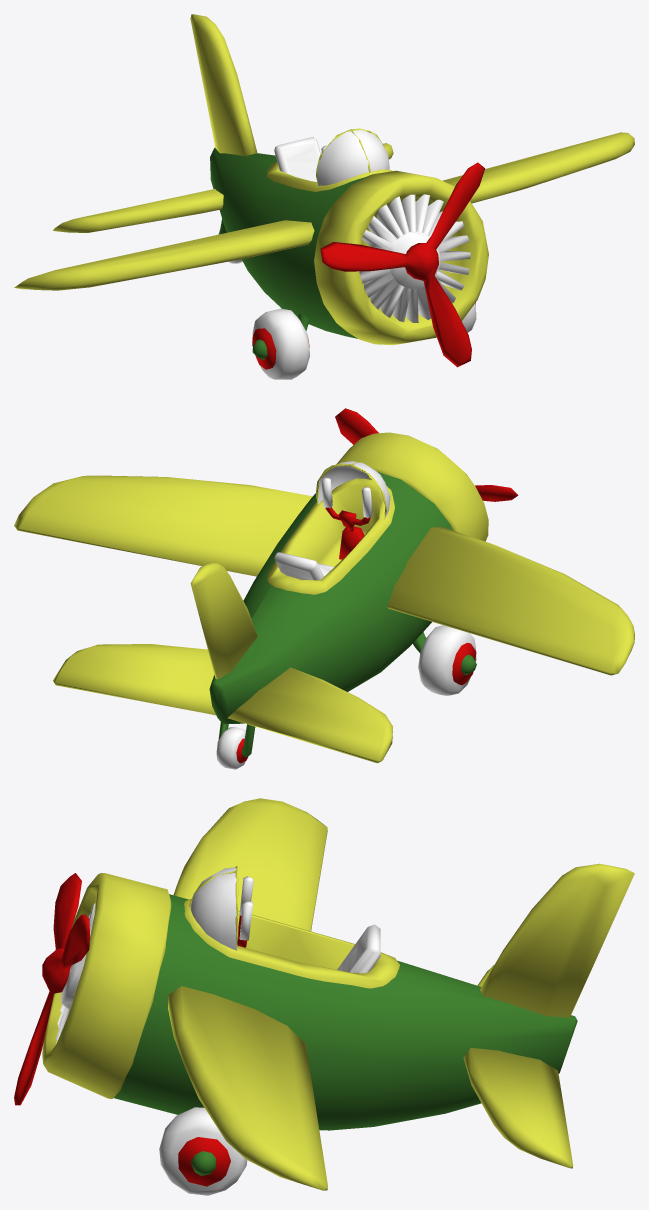
The model's file is plane_verde.fbx.
The picture shows the model from 3 angles, top to bottom: view 1: azimuth 30°, elevation 25°; view 2: azimuth 150°, elevation 25°; view 3: azimuth 270°, elevation 25°; orthographic projection. The views are drawn at different scales.
Visible parts, largest first — view 1: Object014; view 2: Object014; view 3: Object014.
Boxes of the visible parts, x1,y1,x2,y2 form: Object014: (14,14,634,379); Object014: (14,408,634,769); Object014: (14,798,634,1195).
Size of the model in its own units: 87.34 by 30.7 by 62.35.
